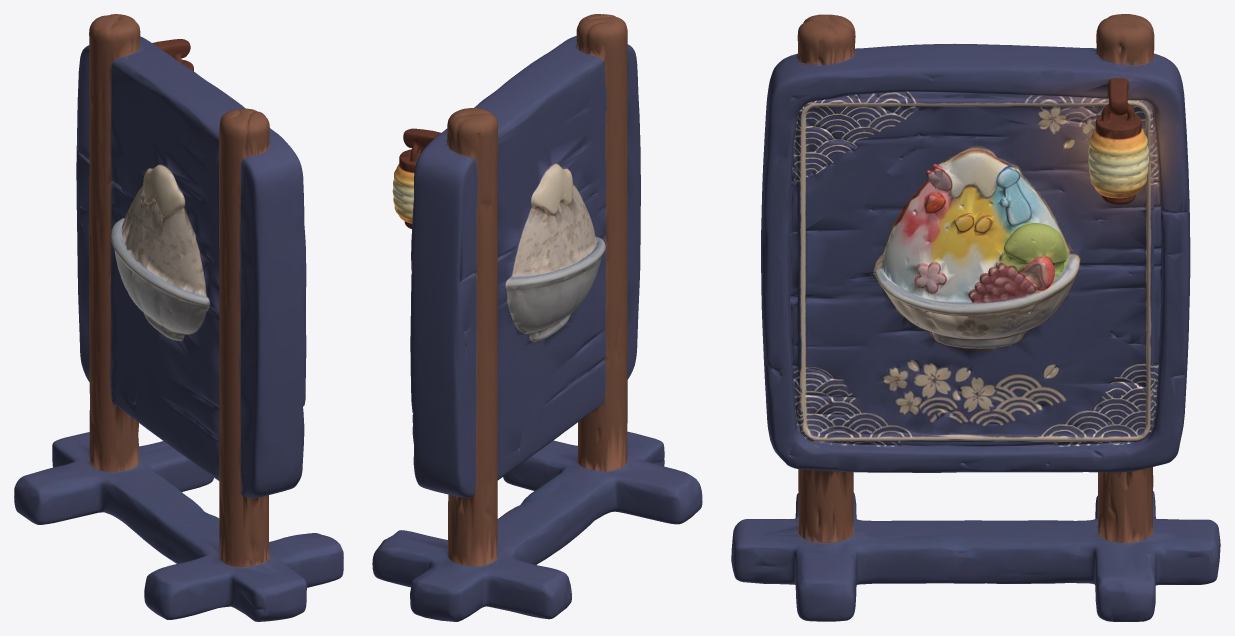
Rendered from JP_사물_s2_sign_billboard_old.glb.
3 renders of one model, left to right at view 1: azimuth 30°, elevation 25°; view 2: azimuth 150°, elevation 25°; view 3: azimuth 270°, elevation 25°, orthographic. The views are drawn at different scales.
Parts seen in each view (by area): view 1: tripo_node_54c6156b-67d4-4e57-bda7-d0b4f5628762; view 2: tripo_node_54c6156b-67d4-4e57-bda7-d0b4f5628762; view 3: tripo_node_54c6156b-67d4-4e57-bda7-d0b4f5628762.
Boxes of the visible parts, x1=… form: tripo_node_54c6156b-67d4-4e57-bda7-d0b4f5628762: x1=14, y1=14, x2=343, y2=621; tripo_node_54c6156b-67d4-4e57-bda7-d0b4f5628762: x1=372, y1=14, x2=702, y2=621; tripo_node_54c6156b-67d4-4e57-bda7-d0b4f5628762: x1=731, y1=14, x2=1220, y2=621.
Bounding box in the file's own units: 0.402 × 1 × 0.802.
Materials: 1 (1 with a texture image).
